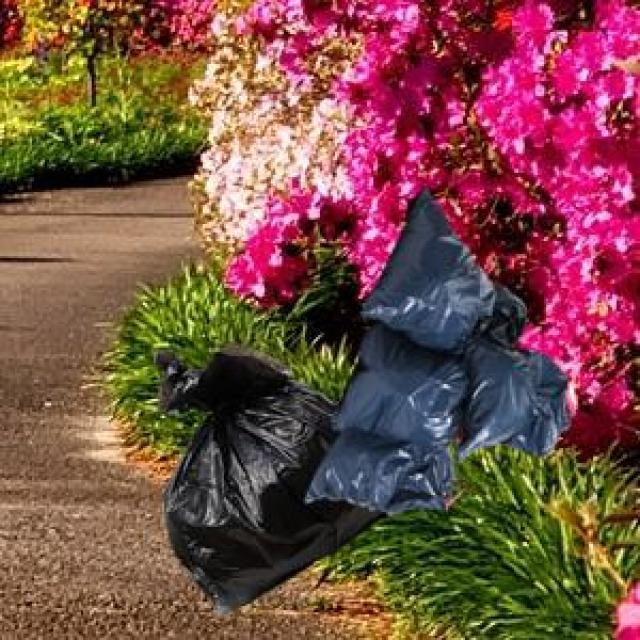waste: (158, 191, 569, 611)
